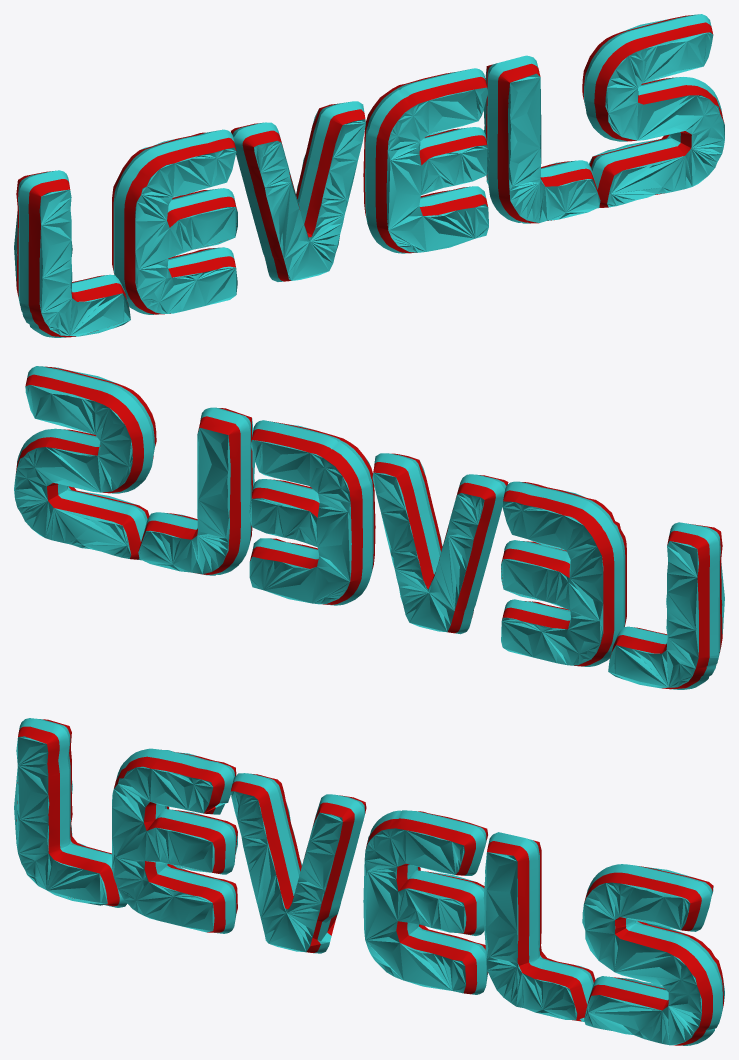
File: TextLevels.fbx
The picture shows the model from 3 angles, top to bottom: view 1: azimuth 30°, elevation 25°; view 2: azimuth 150°, elevation 25°; view 3: azimuth 330°, elevation 25°; orthographic projection.
Parts seen in each view (by area): view 1: TextLevels; view 2: TextLevels; view 3: TextLevels.
Part boxes in pixels (bbox=[...]): TextLevels: bbox=[14, 14, 724, 337]; TextLevels: bbox=[14, 366, 724, 689]; TextLevels: bbox=[14, 718, 724, 1045].
Bounding box in the file's own units: 3467 × 805 × 250.
